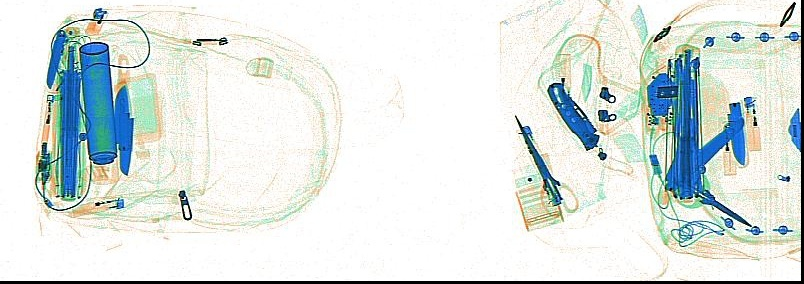knife: (656, 116, 744, 202), (546, 82, 599, 149), (115, 53, 133, 176), (724, 102, 747, 167), (45, 24, 66, 88), (113, 78, 130, 149)
lighter: (69, 194, 124, 217), (516, 125, 546, 167), (741, 96, 759, 151), (721, 121, 735, 176), (83, 6, 107, 35), (555, 53, 570, 97), (40, 92, 52, 144)
pressure: (79, 41, 118, 184)
scissors: (514, 111, 578, 217), (673, 167, 750, 227)
